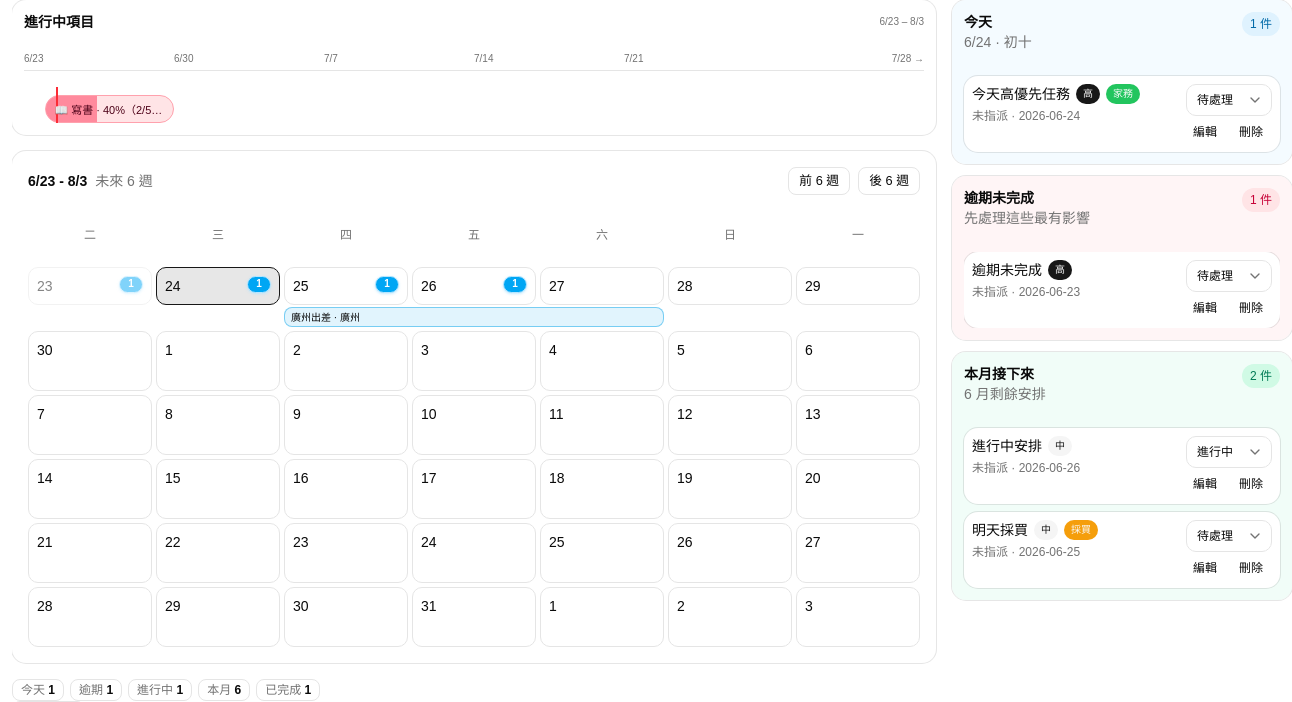
Test case: DashboardPage › shows selected-date schedule blocks in the side panel
This screenshot has width=1292, height=702.
Click the button "25 1" at (346, 286), box [284,267,408,305]
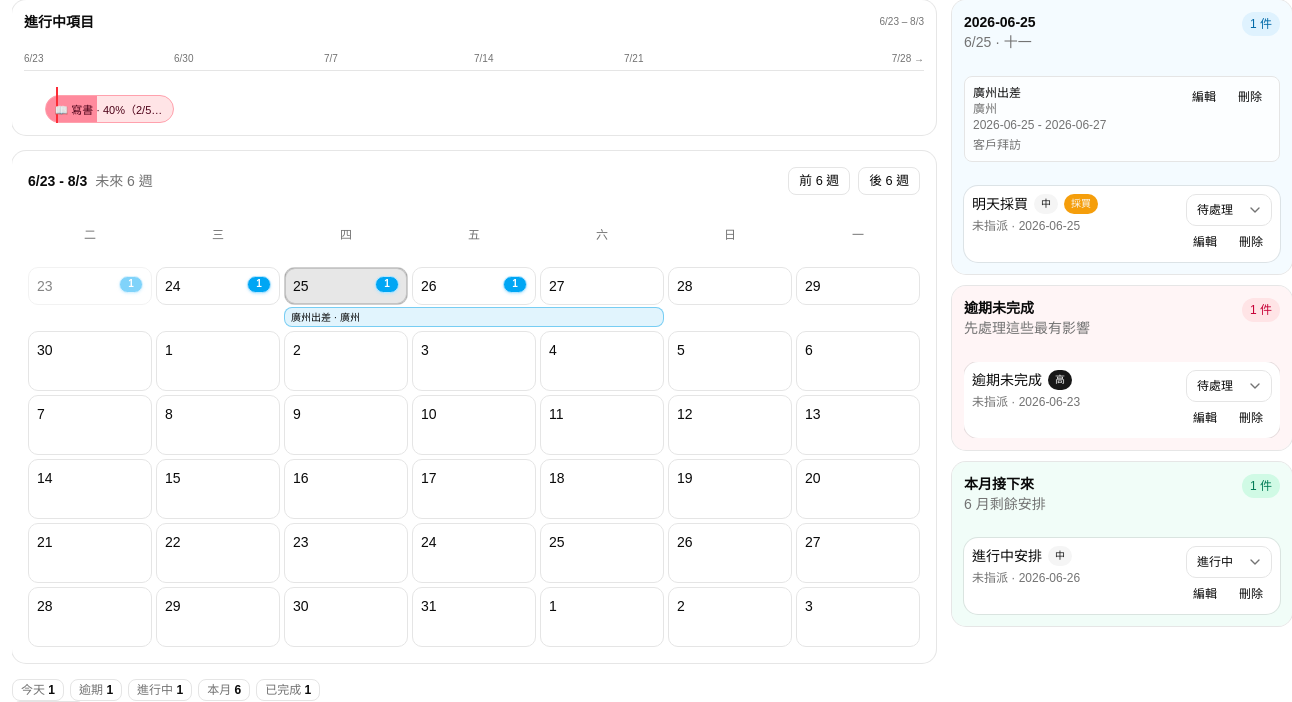
Expected: the text "廣州" is shown, [973,102,997,116]
Expected: the text "客戶拜訪" is shown, [973,138,1021,152]
